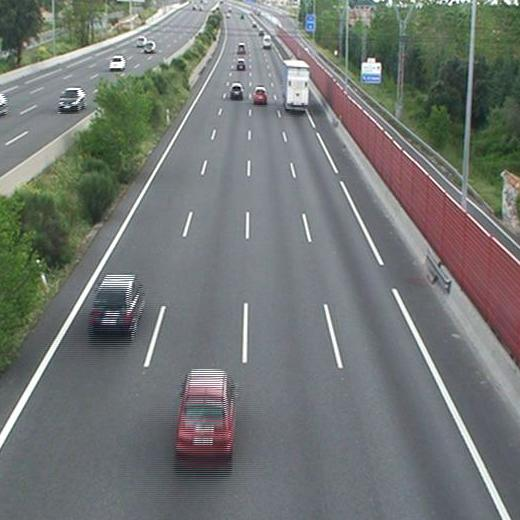car: (176, 370, 234, 456), (92, 274, 142, 327), (253, 87, 267, 103), (230, 84, 244, 98), (236, 59, 245, 69), (237, 44, 246, 53)
small-truck: (283, 60, 310, 111)
van: (263, 35, 271, 48)
